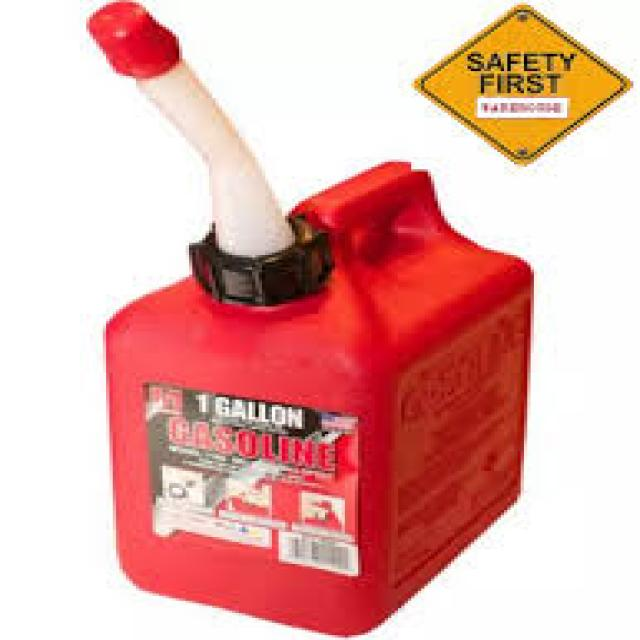gasolin: (90, 2, 534, 638)
